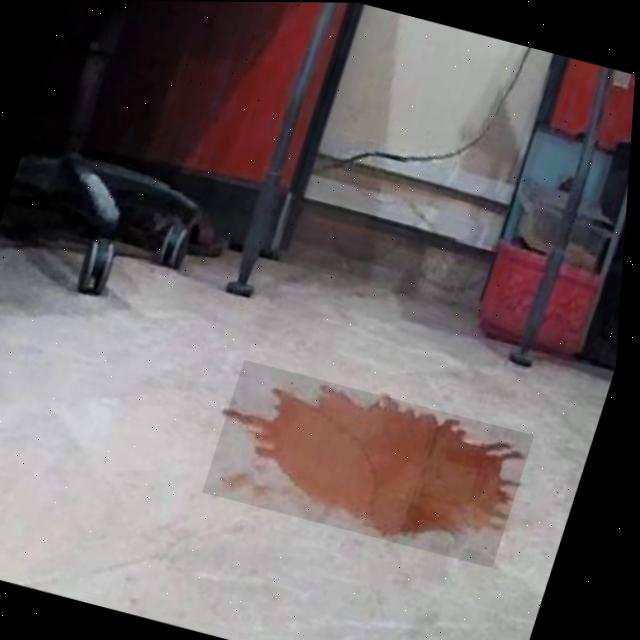spillage: (232, 385, 525, 538)
